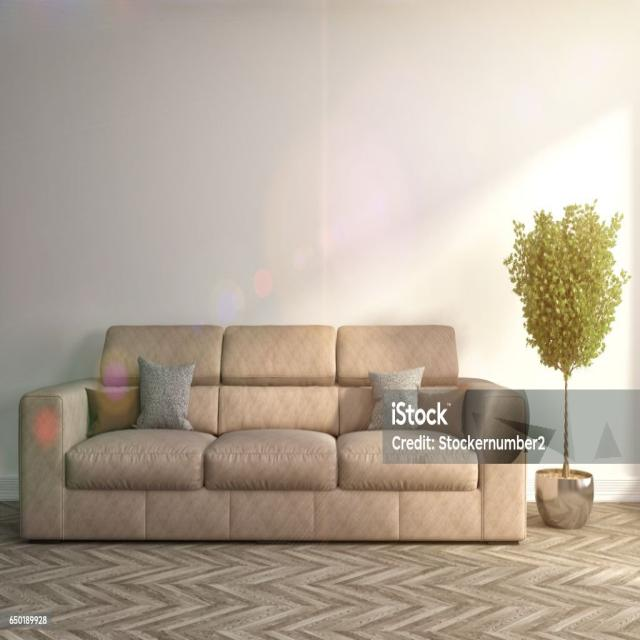back_cushion: (101, 326, 458, 435)
base: (51, 490, 526, 541)
left_arm: (479, 449, 526, 539), (466, 390, 526, 443)
right_arm: (19, 381, 88, 538)
seat_cushion: (66, 429, 478, 490)
stallion-sofa1: (0, 0, 639, 639)
